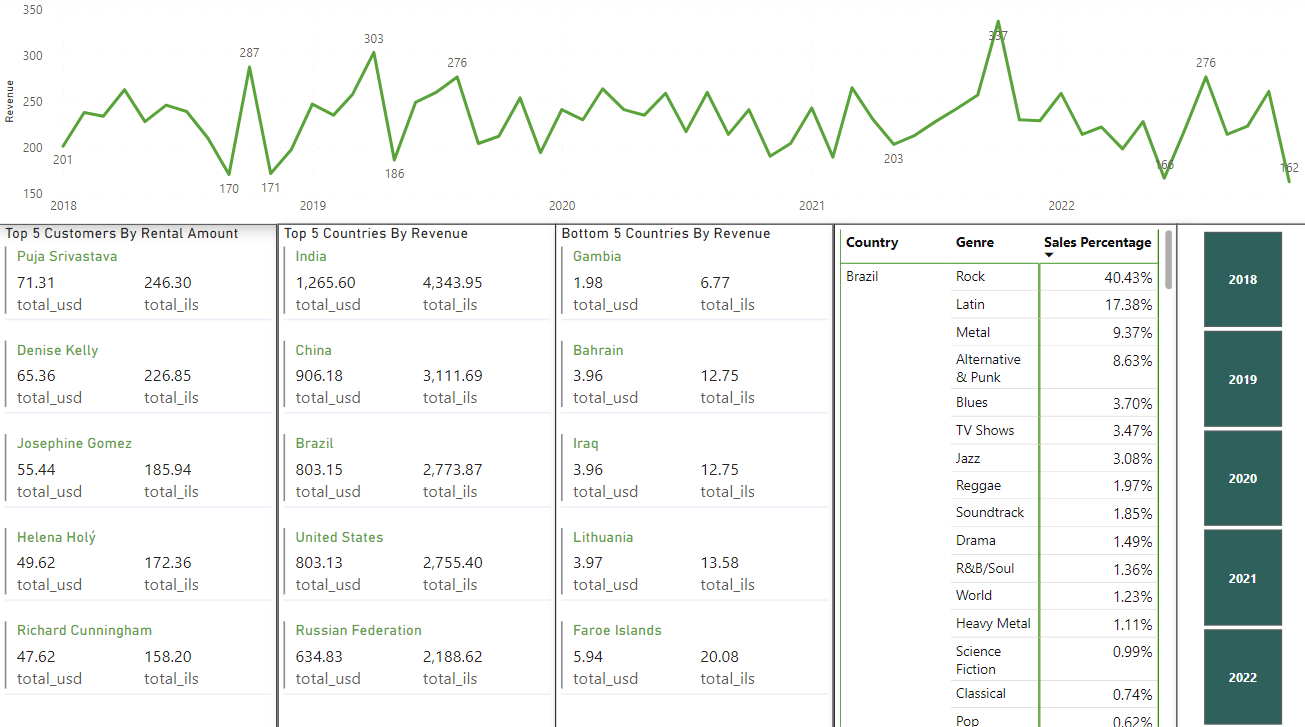

This screenshot's page, from the dashboard's own definition file:
{"tool":"powerbi","page":{"name":"Sales Dashboard","canvas":[1280,720],"ordinal":1},"visuals":[{"type":"multiRowCard","title":"Top 5 Customers By Rental Amount","fields":{"Values":["dim_customer.full_name","fact_invoice.total","fact_invoice.ils_total"]},"box":[0,224,272,496],"z":0},{"type":"lineChart","fields":{"Y":["fact_invoice.total"],"Category":["dim_currency.dates.Variation.Date Hierarchy.Year","dim_currency.dates.Variation.Date Hierarchy.Month"]},"box":[0,0,1280,224],"z":1000},{"type":"multiRowCard","title":"Top 5 Countries By Revenue","fields":{"Values":["dim_customer.country","fact_invoice.total","fact_invoice.ils_total"]},"box":[272,224,272,496],"z":2000},{"type":"multiRowCard","title":"Bottom 5 Countries By Revenue","fields":{"Values":["dim_customer.country","fact_invoice.total","fact_invoice.ils_total"]},"box":[544,224,272,496],"z":3000},{"type":"pivotTable","fields":{"Rows":["dim_customer.country","dim_track.genre_name"],"Values":["dim_track.Sales % Group"]},"box":[816,224,336,496],"z":4000},{"type":"slicer","fields":{"Values":["dim_currency.dates.Variation.Date Hierarchy.Year"]},"box":[1152,224,128,496],"z":5000}]}

Visuals, with their boxes in screenshot pixels (x1, y1, x2, y2), scaled from the page's 1280x720 canvas onto the 1305x727 screenshot:
"Top 5 Customers By Rental Amount" multiRowCard: box=[0, 226, 277, 726]
lineChart - fact_invoice.total x dim_currency.dates.Variation.Date Hierarchy.Year: box=[0, 0, 1304, 226]
"Top 5 Countries By Revenue" multiRowCard: box=[277, 226, 555, 726]
"Bottom 5 Countries By Revenue" multiRowCard: box=[555, 226, 832, 726]
pivotTable - dim_customer.country x dim_track.genre_name: box=[832, 226, 1174, 726]
slicer - dim_currency.dates.Variation.Date Hierarchy.Year: box=[1174, 226, 1304, 726]
